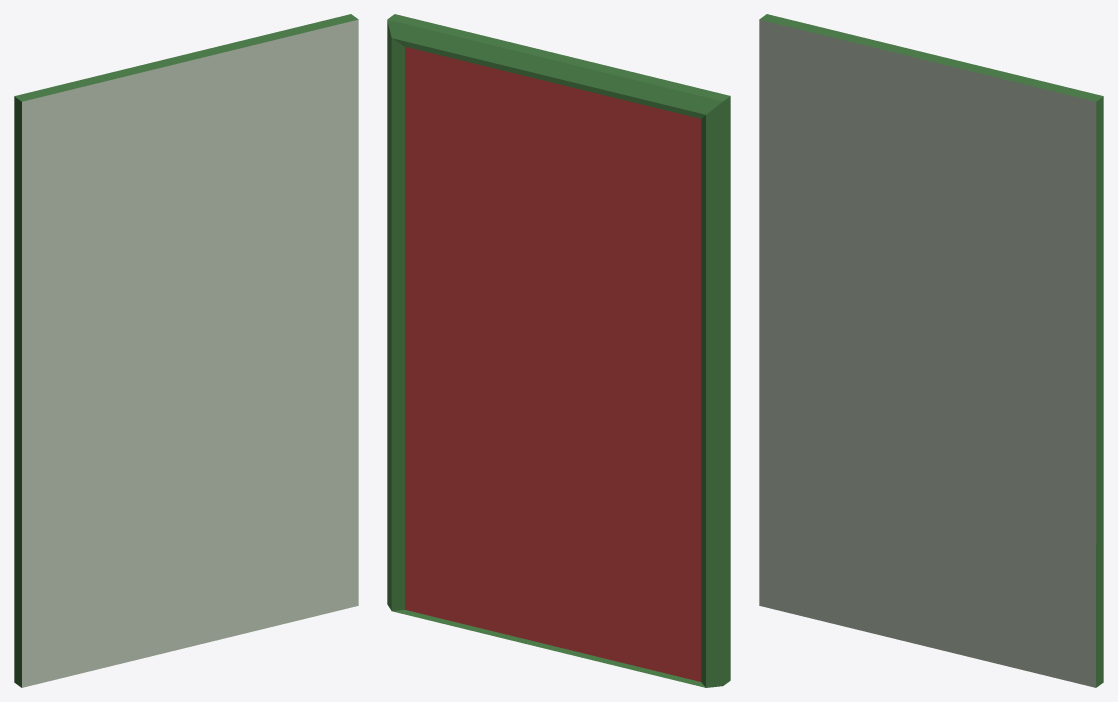
File: Building_Door.fbx
3 views of the same model, side by side, from view 1: azimuth 30°, elevation 25°; view 2: azimuth 150°, elevation 25°; view 3: azimuth 330°, elevation 25° (orthographic).
Parts seen in each view (by area): view 1: Building_Door; view 2: Building_Door; view 3: Building_Door.
Part boxes in pixels (<box>): Building_Door: <box>14,14,358,687</box>; Building_Door: <box>387,14,730,687</box>; Building_Door: <box>759,14,1103,687</box>.
Bounding box in the file's own units: 827 × 1375 × 59.07.
